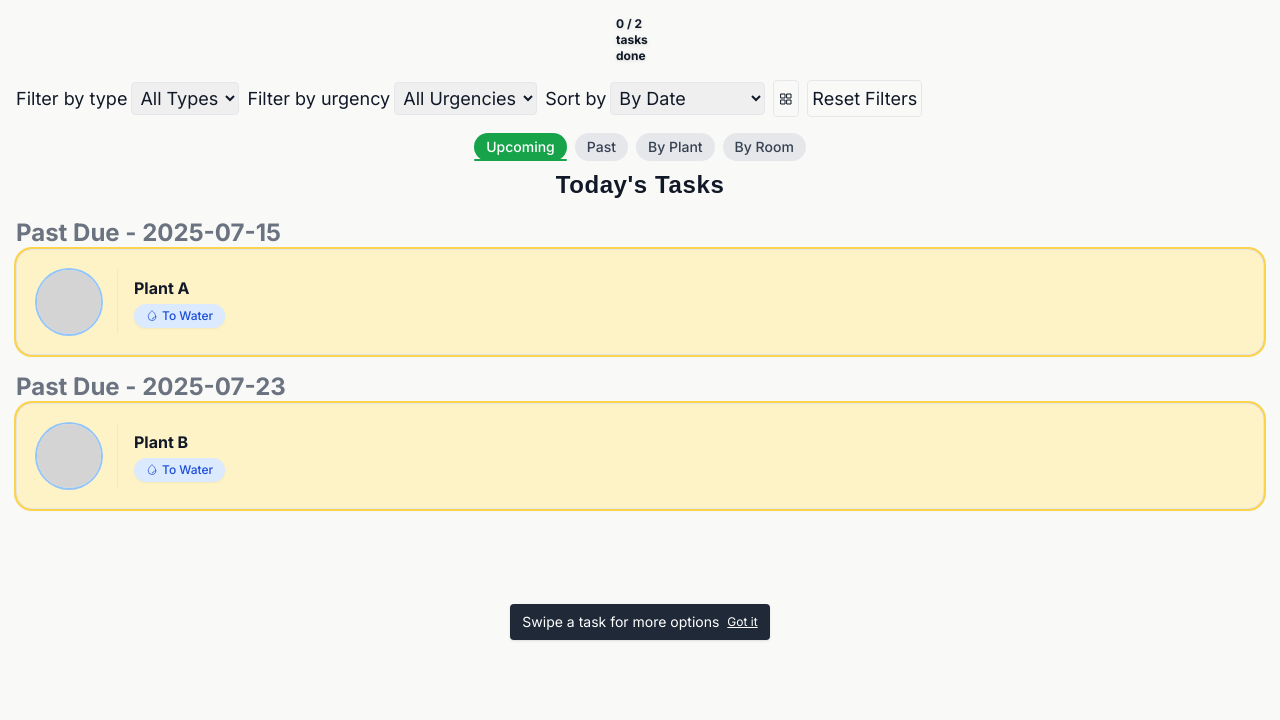
Scenario: switching to Past tab shows past events
The image size is (1280, 720).
Check: the text "Plant A" is shown, box [134, 278, 190, 298]
Step 1. Click the tab "Past" → {"x": 601, "y": 147}, box [575, 133, 628, 161]
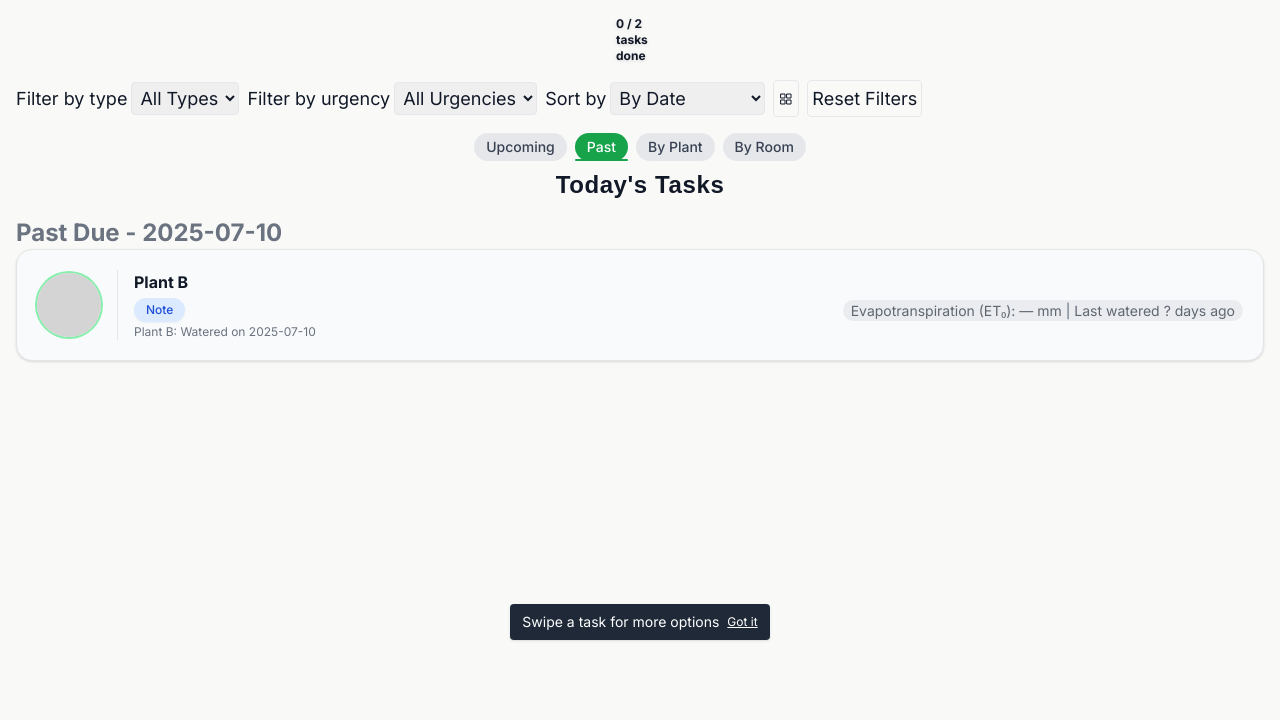
Check: the number of elements with test id "task-card" is 1, box [16, 249, 1264, 361]
Check: the element with test id "task-card" shows "Plant B: Watered on 2025-07-10", box [134, 324, 316, 339]
